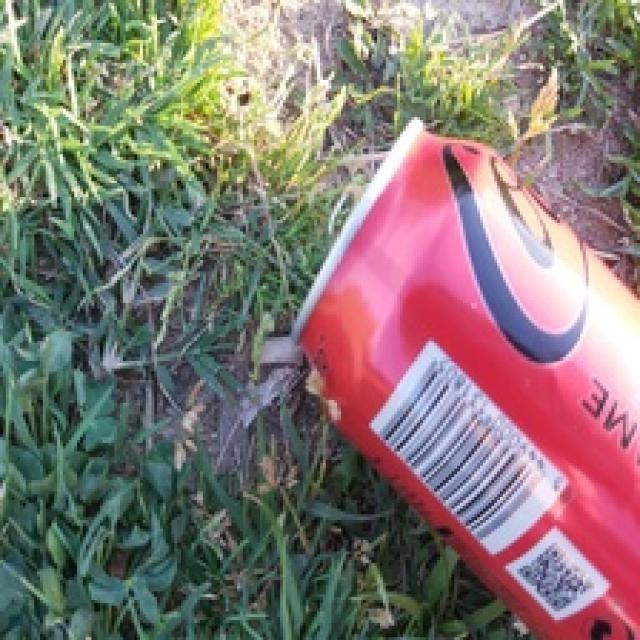recyclable: (286, 117, 638, 640)
